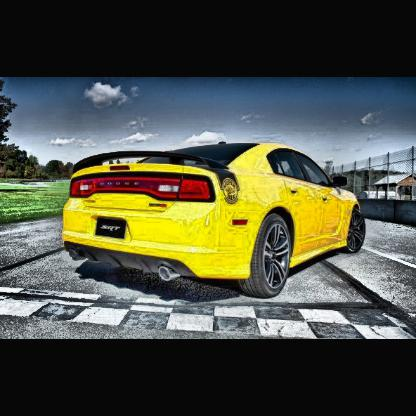Dodge Charger Sedan 2012: (56, 141, 369, 300)
